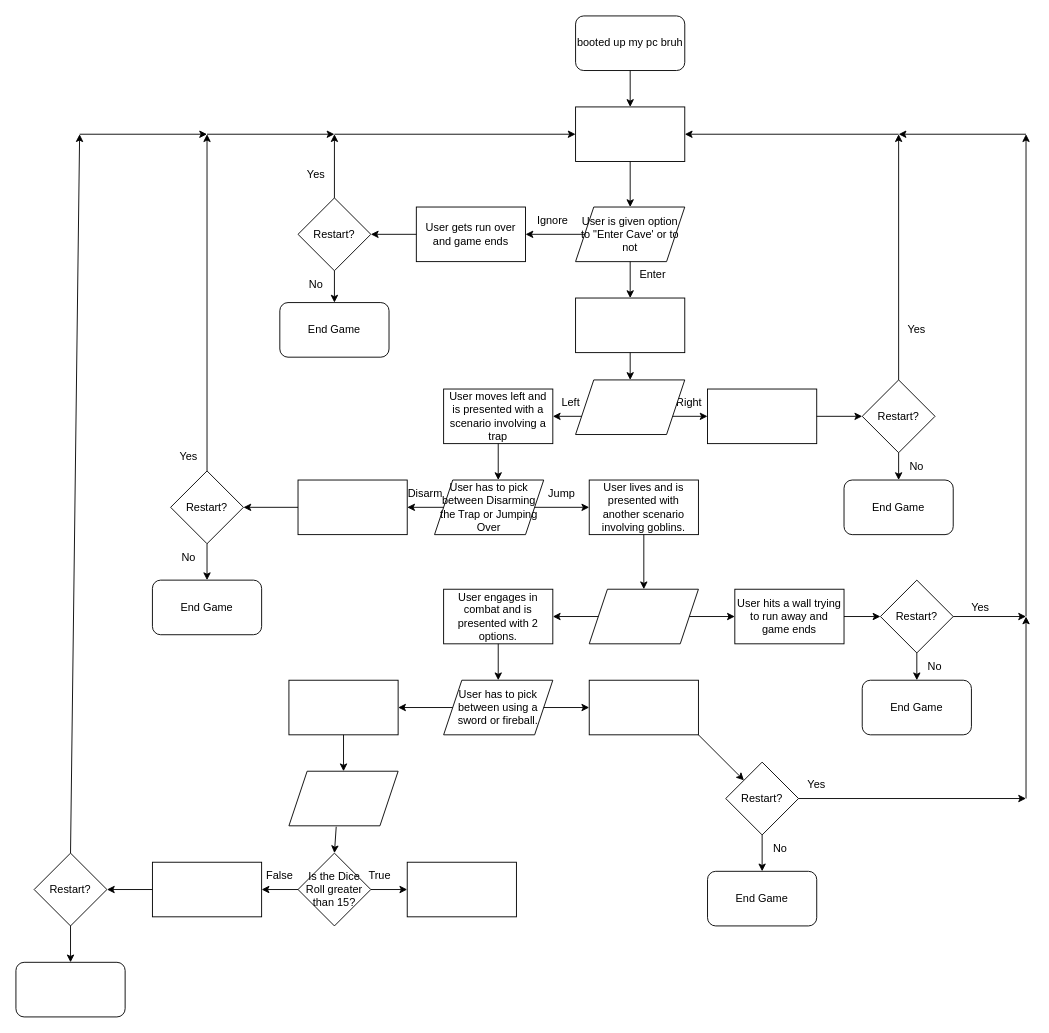
The diagram is 1049 pixels wide and 1033 high, and some of its shapes have lost their labels. Each missing label, with the centre of its shape:
Goblins get blasted and user moves onto the last scenario.: the point at 461,889
Tell player about a cave: the point at 630,134
User enters cave and is presented with 2 options: the point at 630,325
User falls into a pit and game ends: the point at 762,416
User gets clobbered and game ends.: the point at 207,889
User has to pick between "Left' or "Right": the point at 630,407
User has to pick between fighting or running.: the point at 643,616
User picks fireball and is moved into another scenario.: the point at 343,707
User picks sword and gets beat up. Game ends.: the point at 643,707
User rolls a 6--sided dice.: the point at 343,798
User trips and game ends: the point at 352,507
